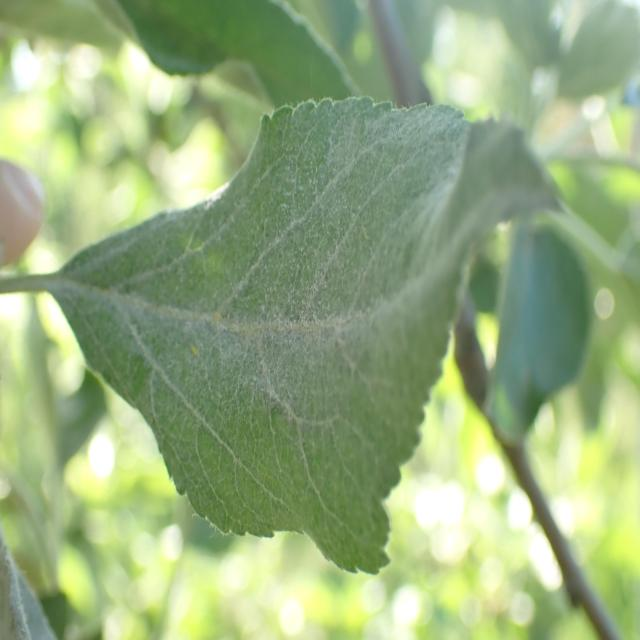Powdery_mildew: (81, 90, 568, 579)
